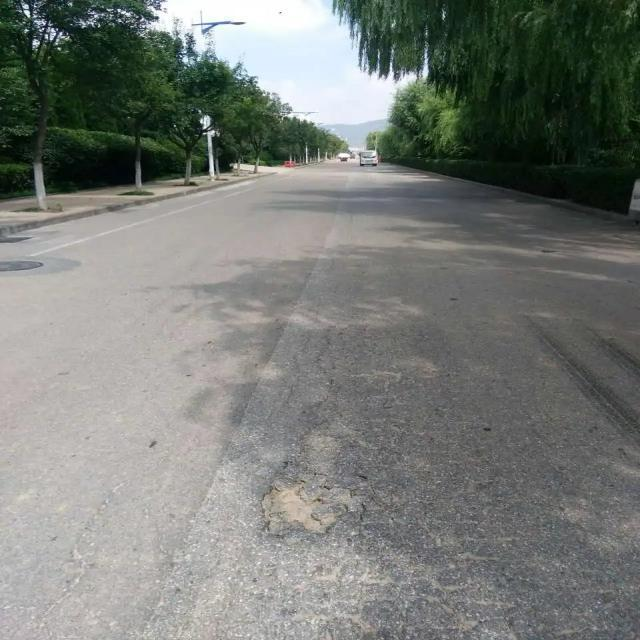pothole: (252, 327, 385, 549)
